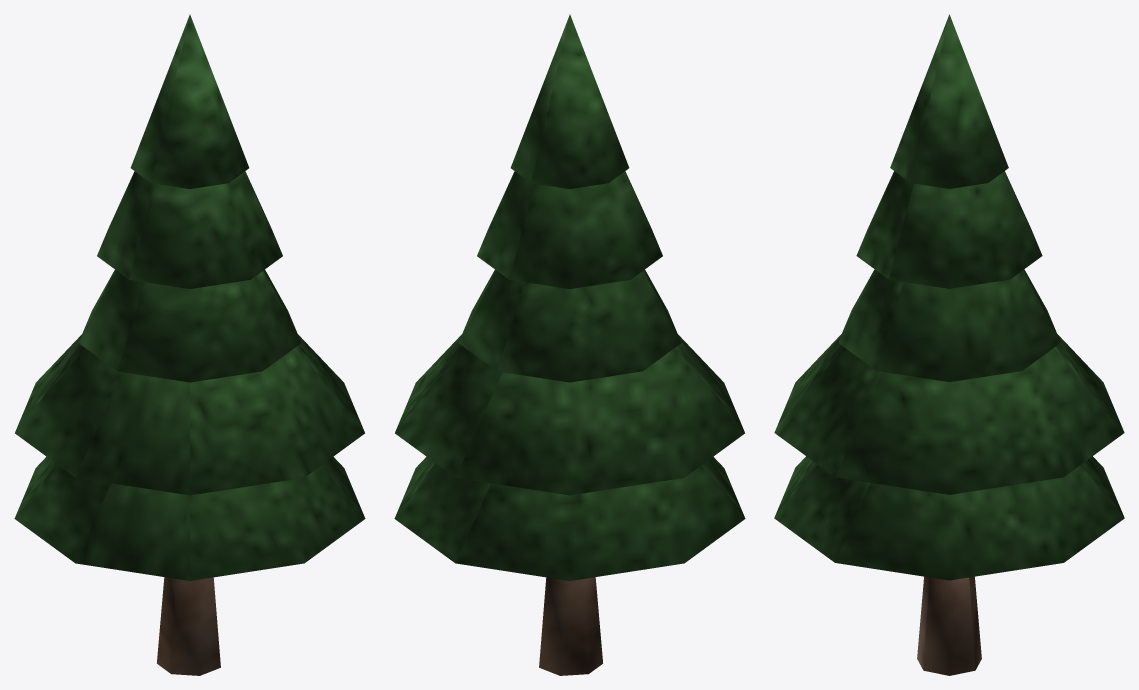
File: ambient_tree_0.glb
3 views of the same model, side by side, from view 1: azimuth 30°, elevation 25°; view 2: azimuth 150°, elevation 25°; view 3: azimuth 270°, elevation 25° (orthographic).
Parts seen in each view (by area): view 1: ambient_tree_0; view 2: ambient_tree_0; view 3: ambient_tree_0.
Part boxes in pixels (x1,y1,x2,y2): ambient_tree_0: (14,14,365,675); ambient_tree_0: (394,14,745,675); ambient_tree_0: (774,14,1124,675).
Bounding box in the file's own units: 2.5 × 5.18 × 2.54.
Materials: 2 (2 with a texture image).
